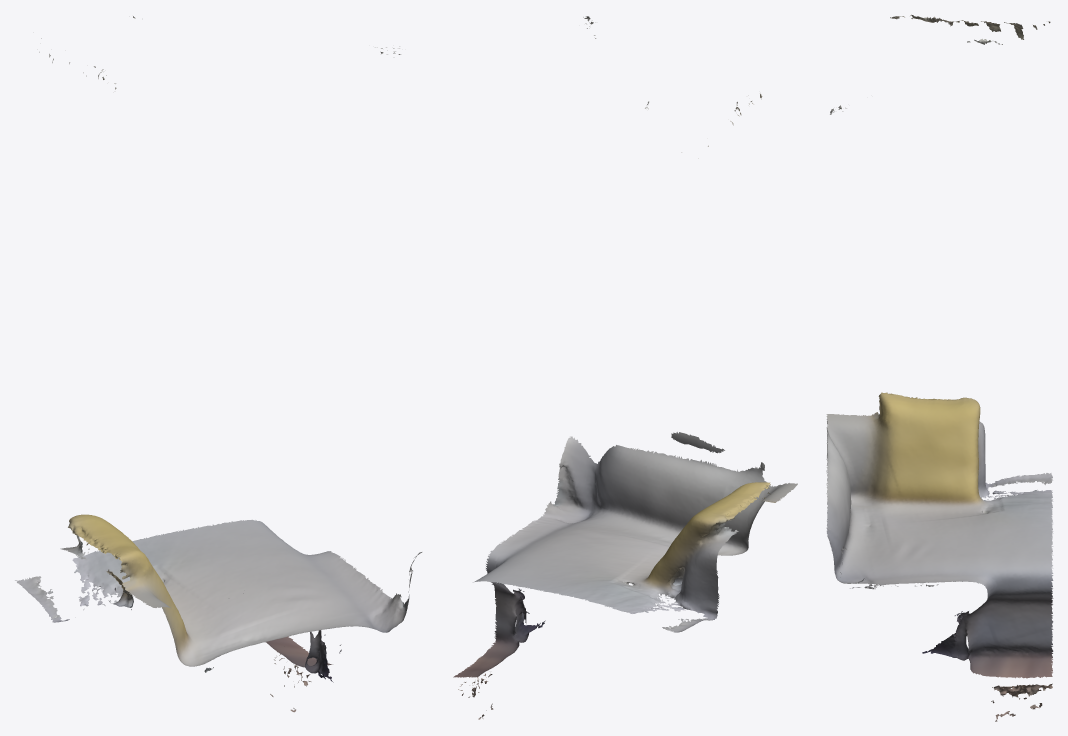
The model's file is apartment-full-76-4b47572d0012.glb.
3 renders of one model, left to right at view 1: azimuth 30°, elevation 25°; view 2: azimuth 150°, elevation 25°; view 3: azimuth 270°, elevation 25°, orthographic. The views are drawn at different scales.
Size of the model in its own units: 1.03 by 2.71 by 0.915.
